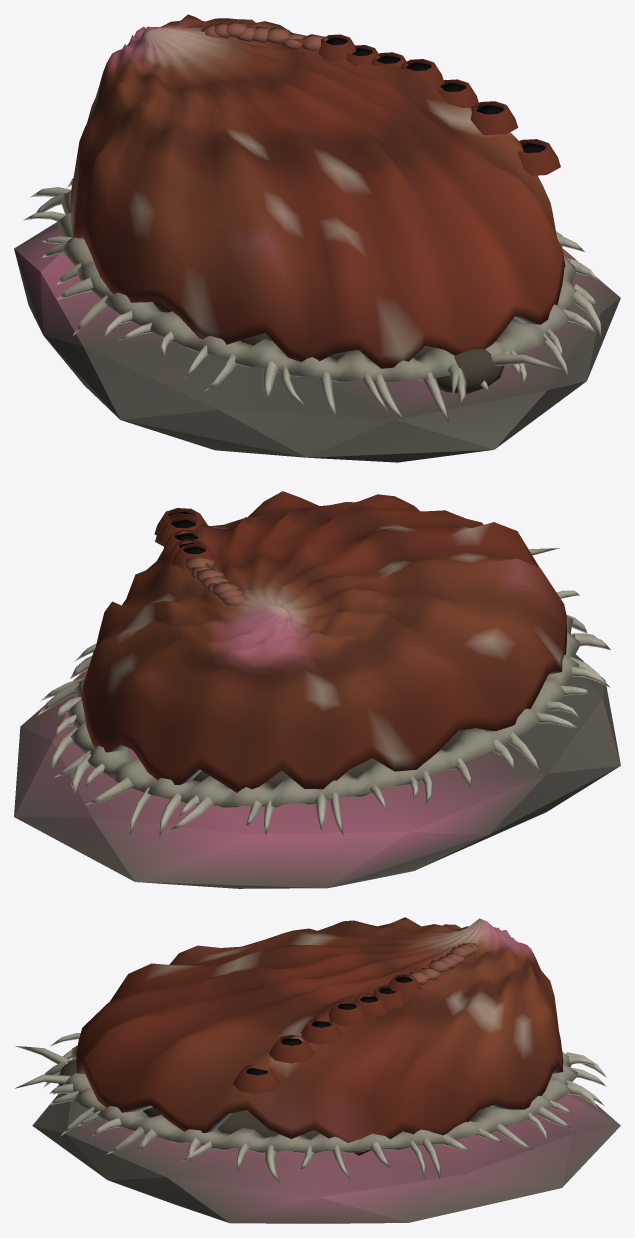
File: PerlemoenAbalone.fbx
3 views of the same model, one above another, from view 1: azimuth 30°, elevation 25°; view 2: azimuth 150°, elevation 25°; view 3: azimuth 270°, elevation 25° (orthographic). The views are drawn at different scales.
Parts seen in each view (by area): view 1: PerlemoenAbalone; view 2: PerlemoenAbalone; view 3: PerlemoenAbalone.
Boxes of the visible parts, x1,y1,x2,y2 form: PerlemoenAbalone: (14,14,620,462); PerlemoenAbalone: (14,491,620,888); PerlemoenAbalone: (15,917,620,1223).
Bounding box in the file's own units: 0.9508 × 0.4338 × 1.25.
